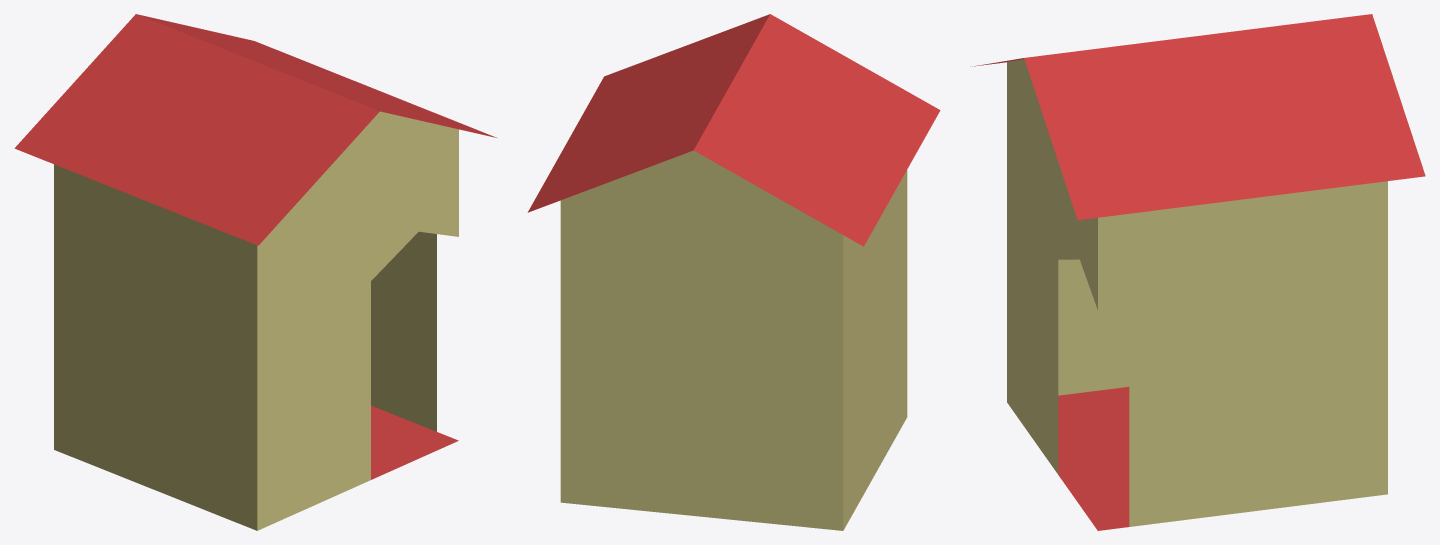
The picture shows the model from 3 angles, left to right: view 1: azimuth 30°, elevation 25°; view 2: azimuth 150°, elevation 25°; view 3: azimuth 270°, elevation 25°; orthographic projection. The views are drawn at different scales.
Bounding box in the file's own units: 11.57 × 11.32 × 11.31.
